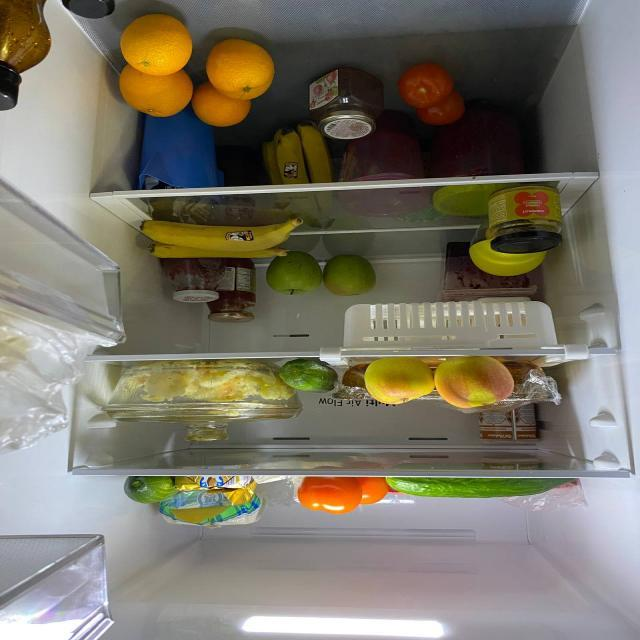Apple: (436, 357, 518, 406), (369, 360, 432, 407), (270, 254, 330, 297), (321, 258, 383, 296)
Banana: (138, 215, 300, 250), (265, 123, 331, 190), (151, 245, 297, 260)
Cucumber: (390, 476, 574, 497), (279, 358, 337, 394), (130, 480, 184, 504)
Orange: (119, 14, 194, 74), (205, 39, 275, 101), (121, 70, 191, 117), (194, 94, 250, 127)
Tomato: (300, 475, 358, 515), (402, 64, 452, 107), (418, 100, 463, 125), (353, 478, 387, 504)
